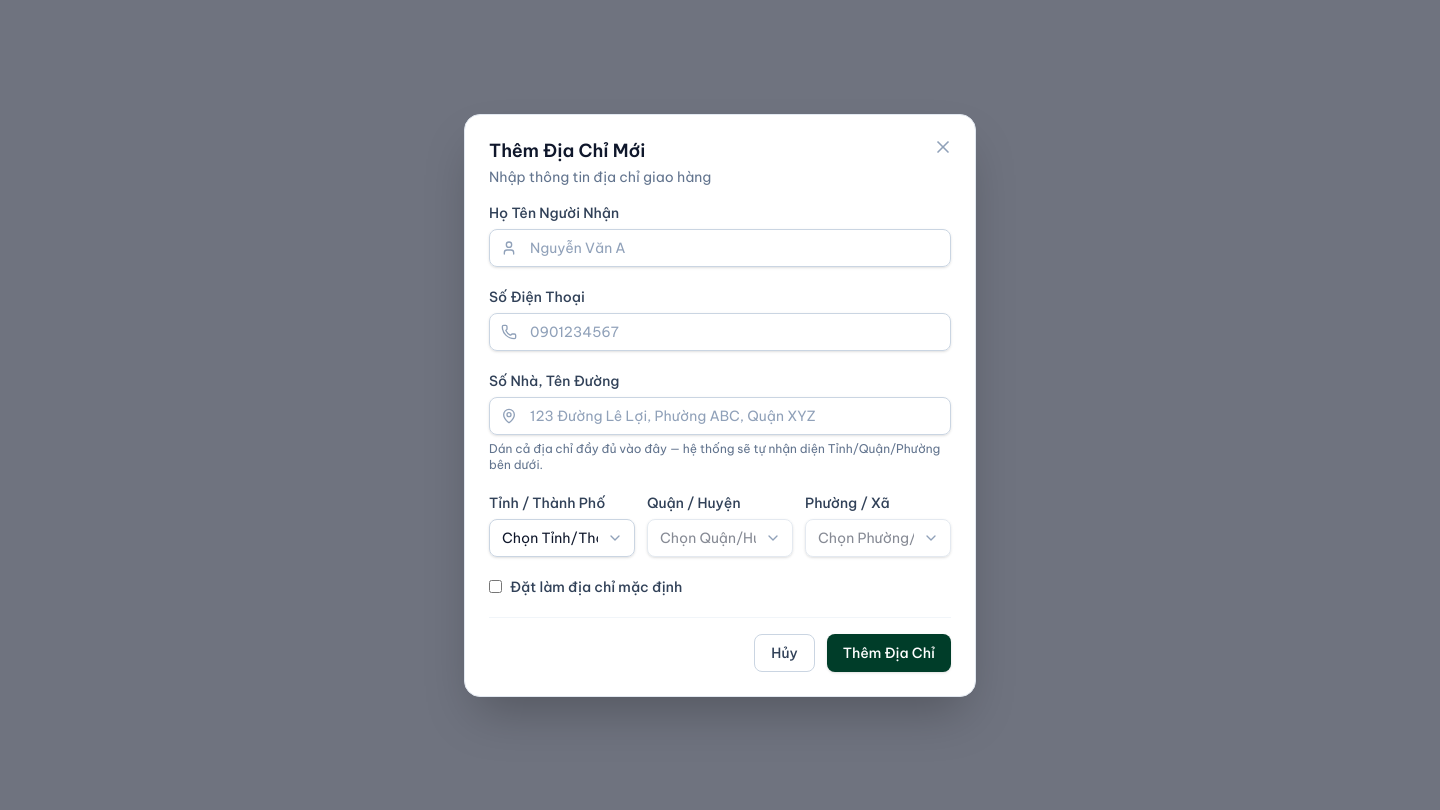
AddressFormModal › shows validation errors when submitting empty required fields
Click the button "Thêm Địa Chỉ" at (889, 652), box left=827, top=634, right=951, bottom=672
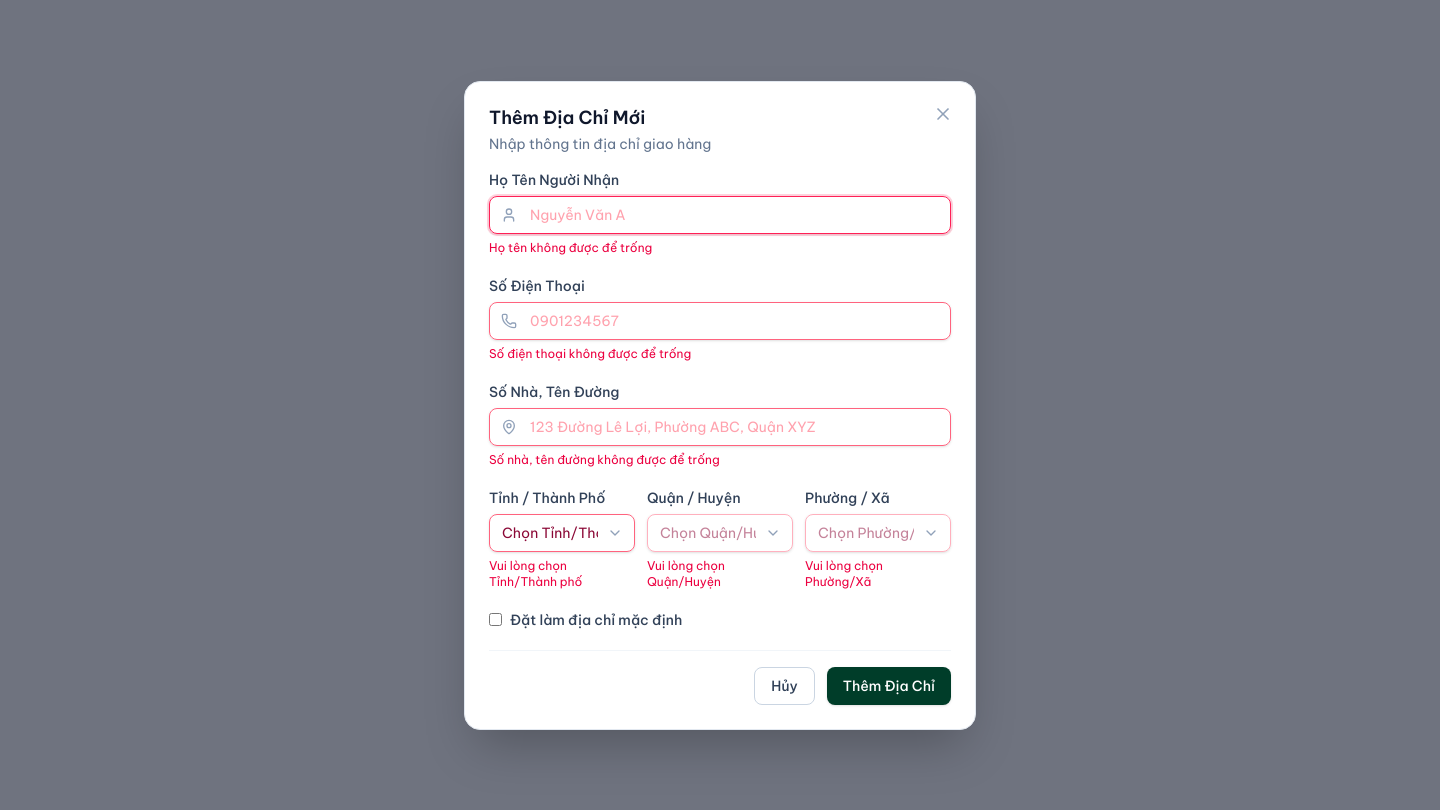
Check: the text "Họ tên không được để trống" is shown, box left=489, top=240, right=652, bottom=254
Check: the text "Số điện thoại không được để trống" is shown, box left=489, top=346, right=691, bottom=360
Check: the text "Số nhà, tên đường không được để trống" is shown, box left=489, top=452, right=720, bottom=466
